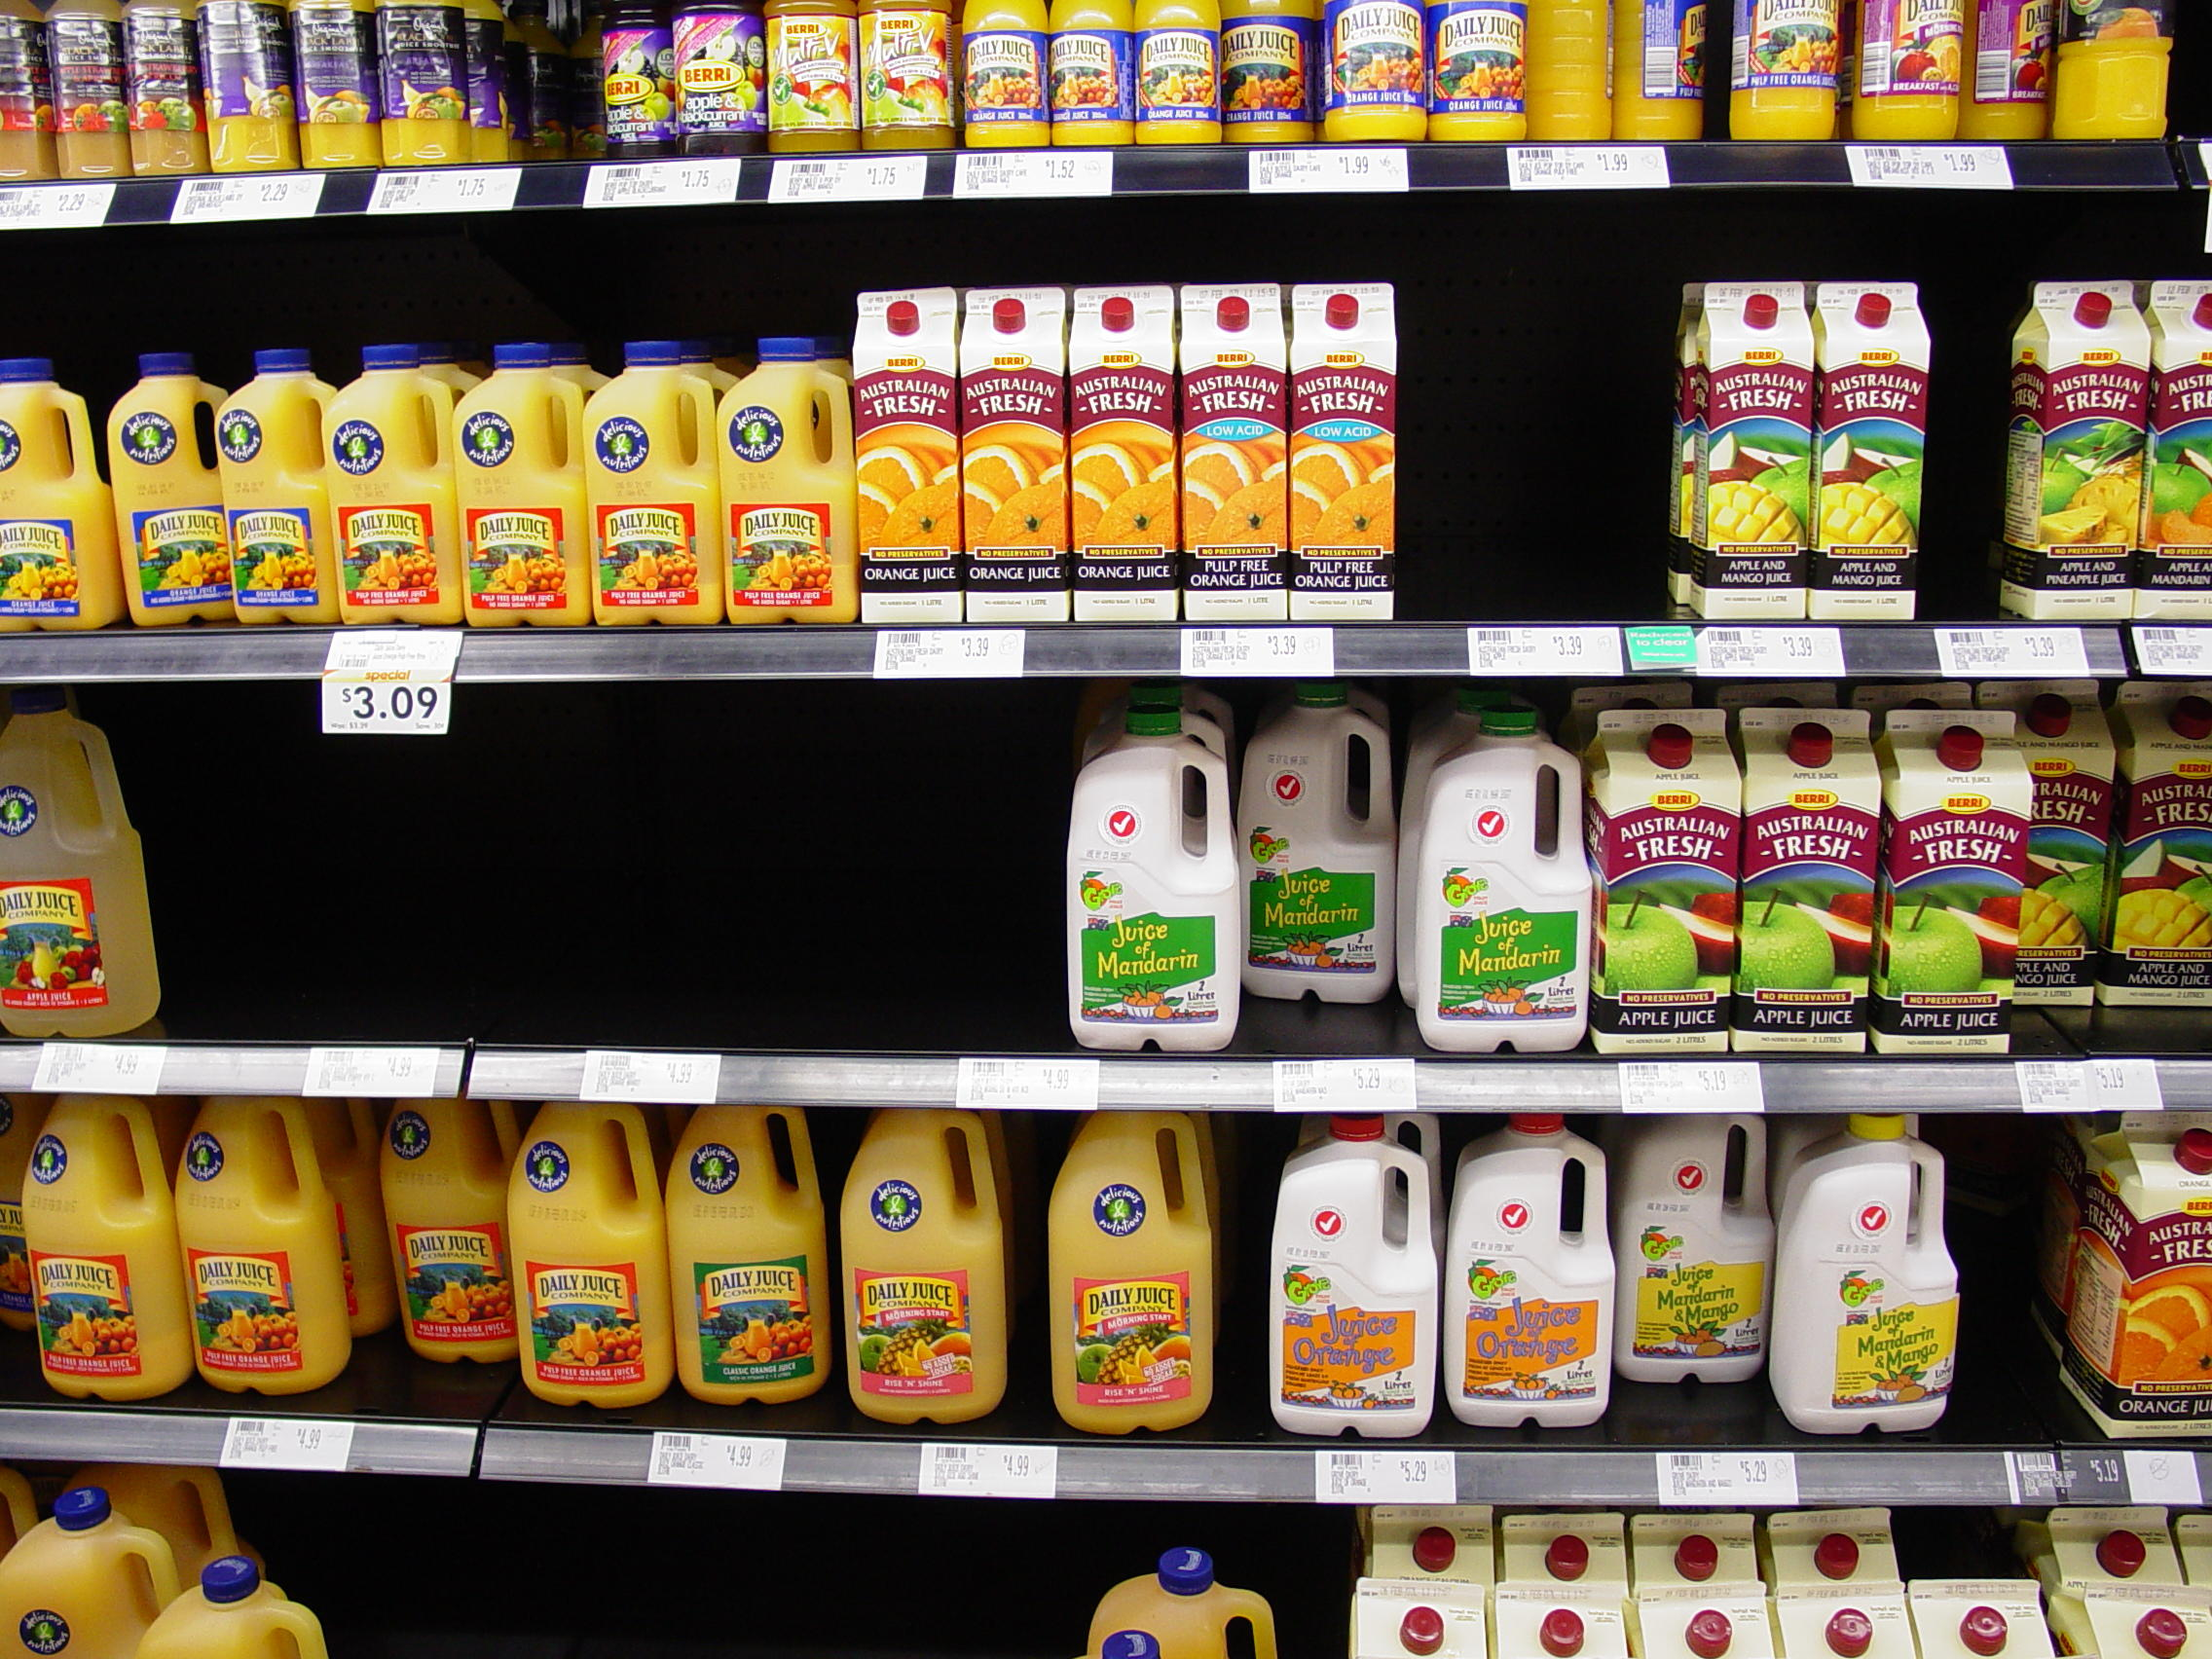Out-of-stock: (143, 685, 1064, 1056), (1402, 261, 1702, 629), (1975, 1122, 2113, 1453), (1928, 281, 2034, 613)
